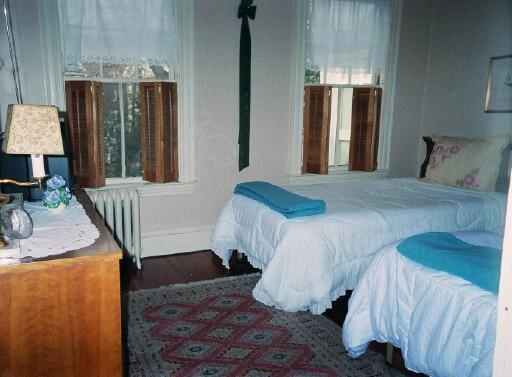Cama: (224, 139, 509, 284), (349, 224, 503, 368)
Ventana: (50, 4, 195, 186), (299, 2, 385, 173)
